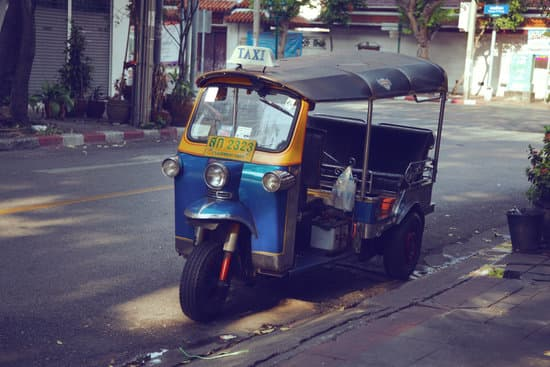threewheel: (162, 45, 449, 321)
